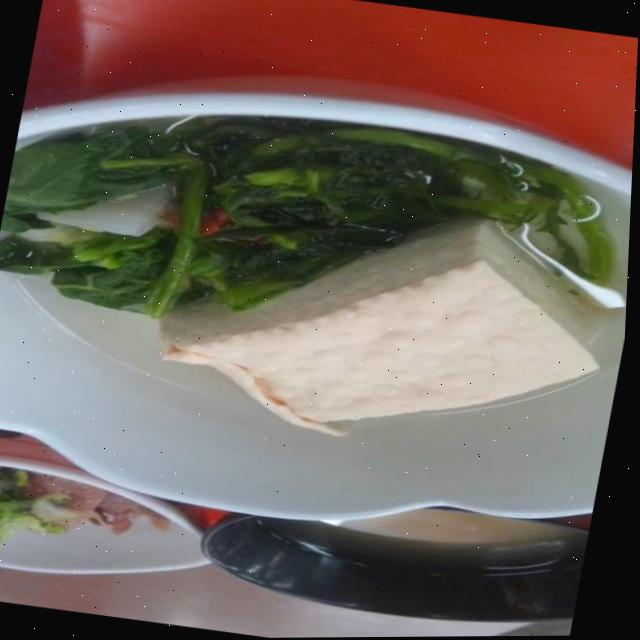豆腐料理: (0, 55, 638, 572)
